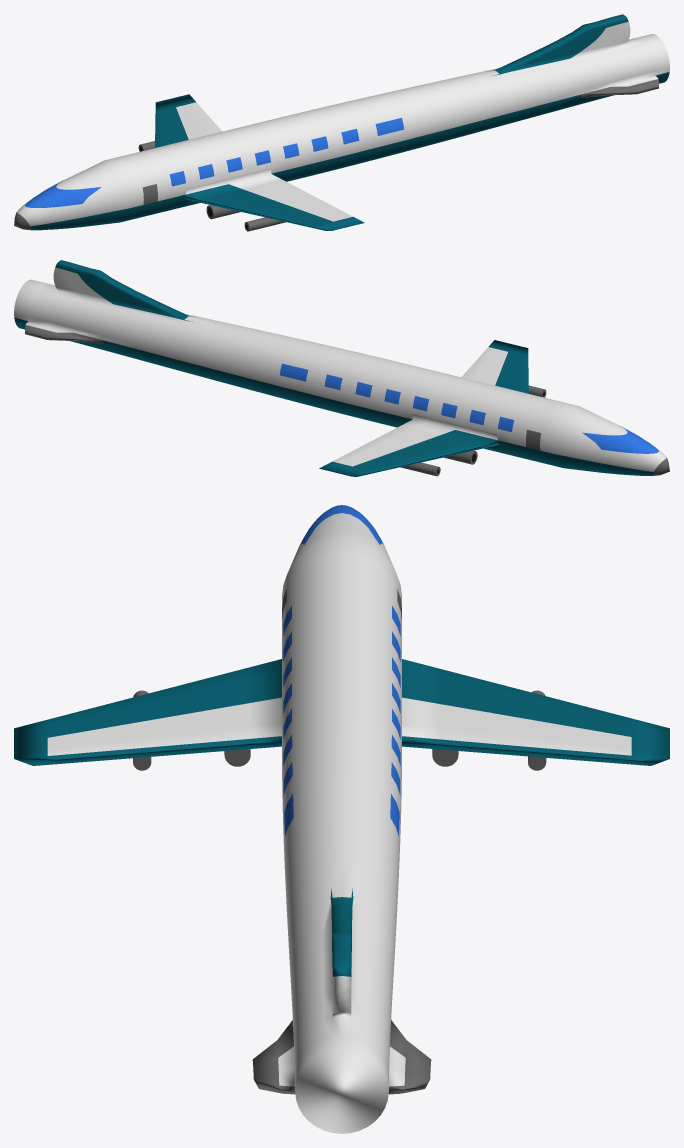
The picture shows the model from 3 angles, top to bottom: view 1: azimuth 30°, elevation 25°; view 2: azimuth 150°, elevation 25°; view 3: azimuth 270°, elevation 25°; orthographic projection. The views are drawn at different scales.
Visible parts, largest first — view 1: Cylinder.003; view 2: Cylinder.003; view 3: Cylinder.003.
Boxes of the visible parts, x1,y1,x2,y2 form: Cylinder.003: (14,14,669,231); Cylinder.003: (14,260,669,476); Cylinder.003: (14,505,669,1133).
Bounding box in the file's own units: 23.11 × 2.76 × 10.94.
